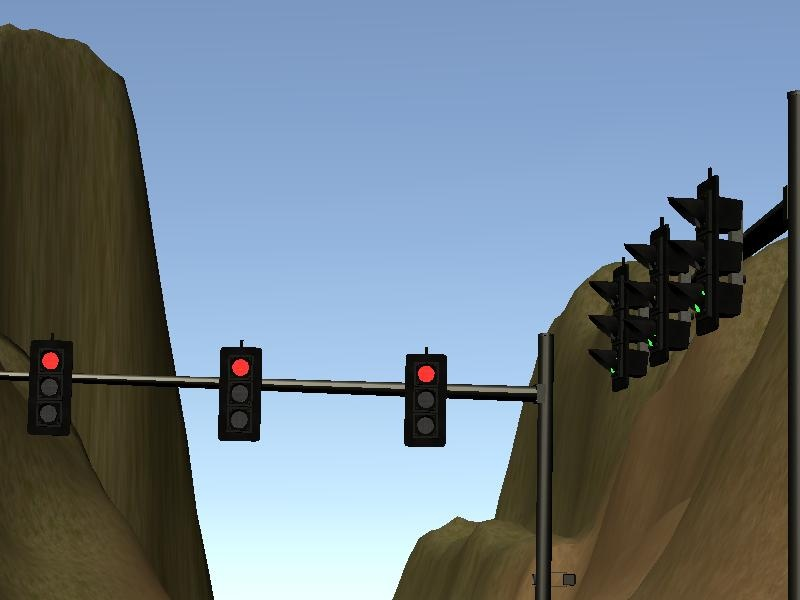red: (210, 338, 265, 446), (398, 345, 451, 453), (27, 333, 76, 441)
